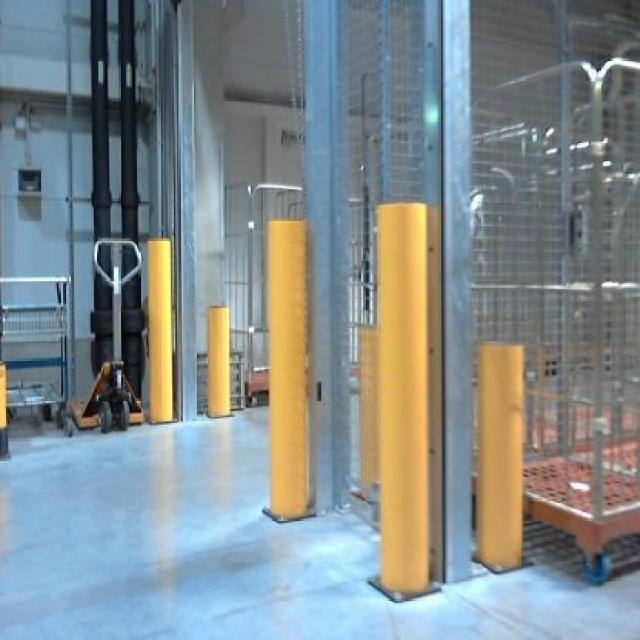ground: (0, 409, 638, 638)
pallet: (523, 490, 638, 588), (245, 366, 269, 412)
